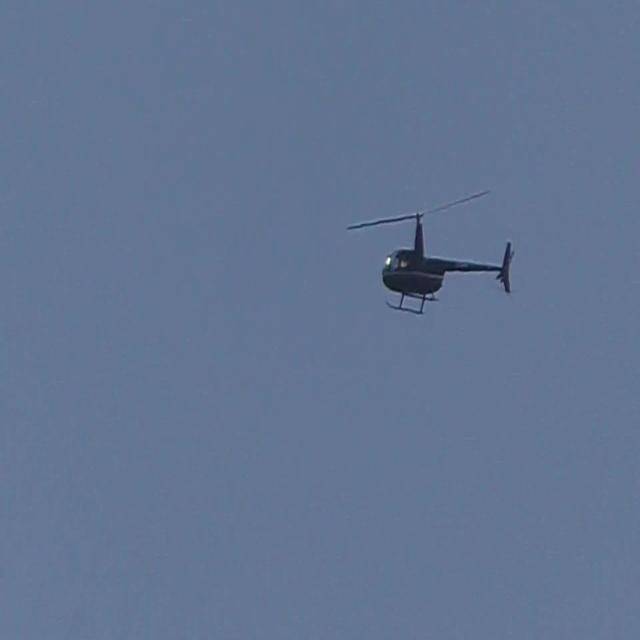CIV_HELO: (382, 212, 515, 316)
